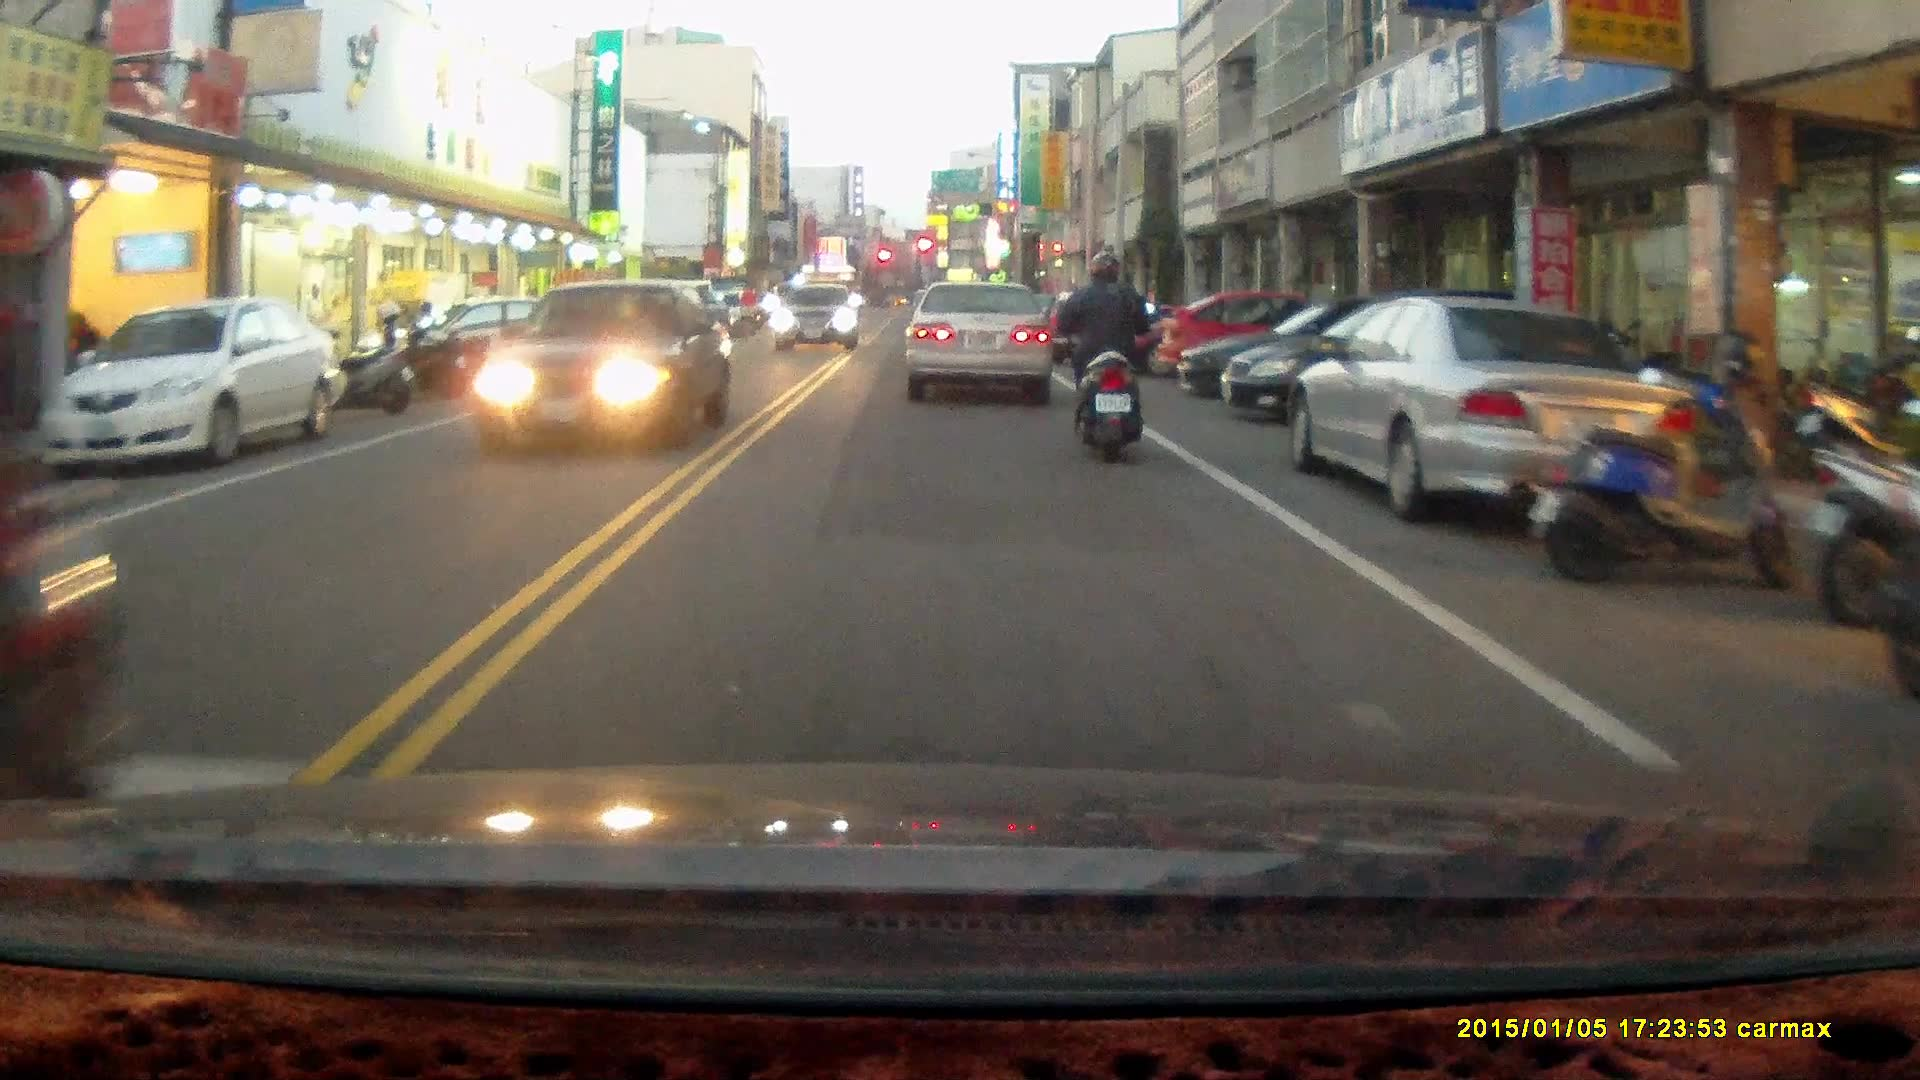pedestrian: (301, 284, 330, 358)
rider: (0, 175, 137, 861), (1051, 251, 1157, 463), (733, 282, 757, 342)
vehicle: (1288, 301, 1695, 531), (36, 293, 354, 470), (474, 282, 733, 461), (1218, 296, 1537, 440), (1171, 308, 1496, 403), (1156, 297, 1398, 390), (903, 283, 1055, 401), (400, 294, 586, 387), (770, 293, 861, 361)
